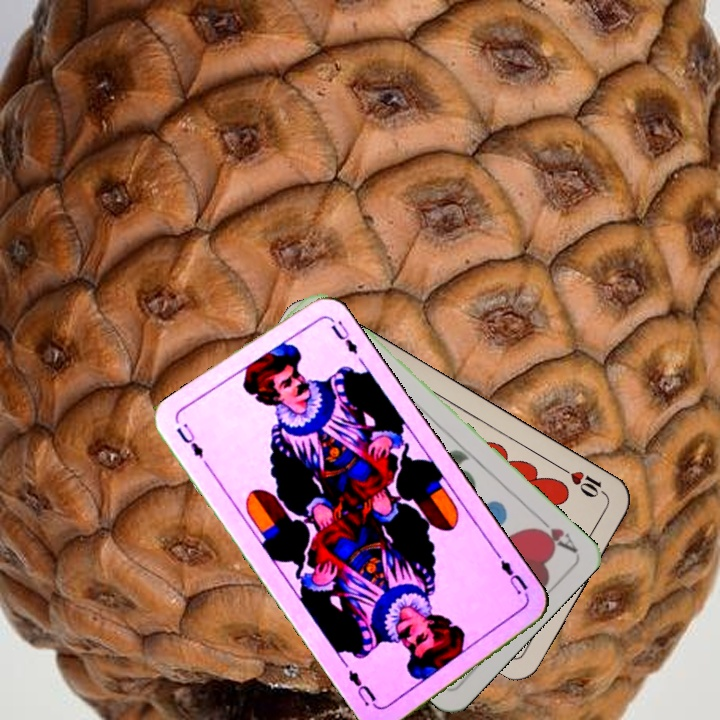EU: (496, 555, 532, 602), (172, 419, 206, 461)
H10: (557, 463, 610, 501)
HA: (529, 510, 579, 555)
